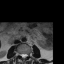CCS_normal: (23, 52, 25, 60)
LFS_normal: (27, 52, 29, 57)
LLS_normal: (25, 52, 27, 59)
RFS_normal: (19, 51, 21, 57)
RLS_normal: (21, 52, 23, 59)
